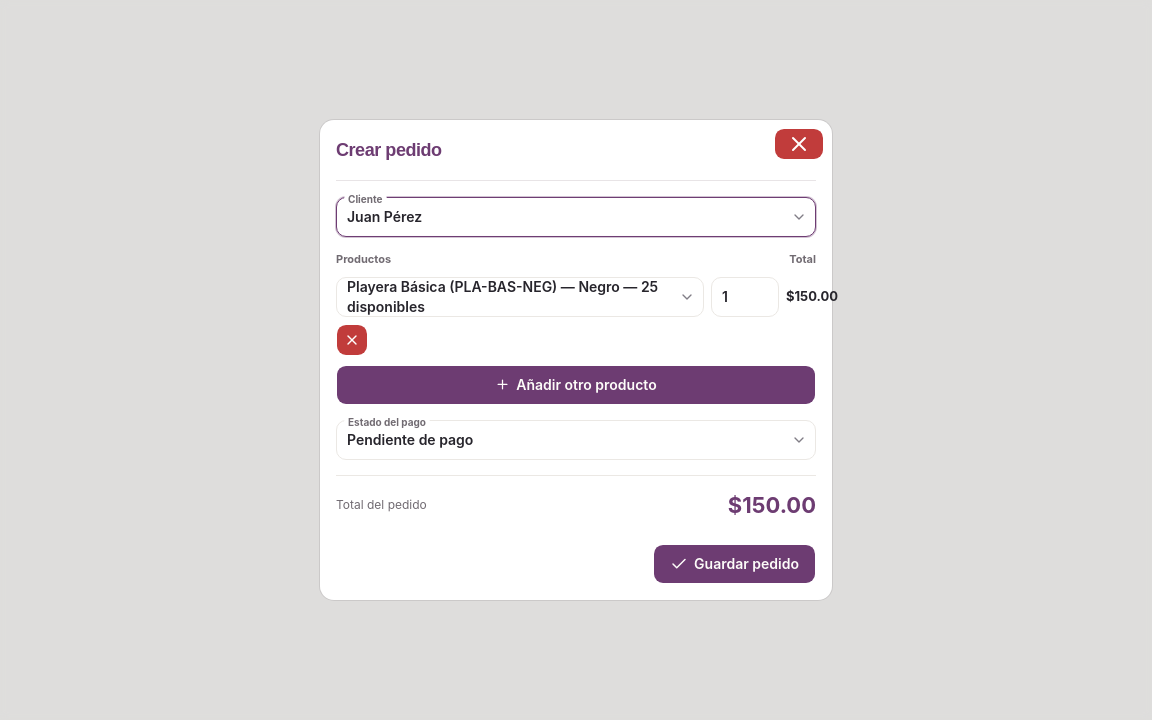
OrderModal › Selección de pago › debería permitir cambiar a Pagado
The image size is (1152, 720).
Click the dropdown named "Estado del pago" at x=410, y=439, box [336,420,816,460]
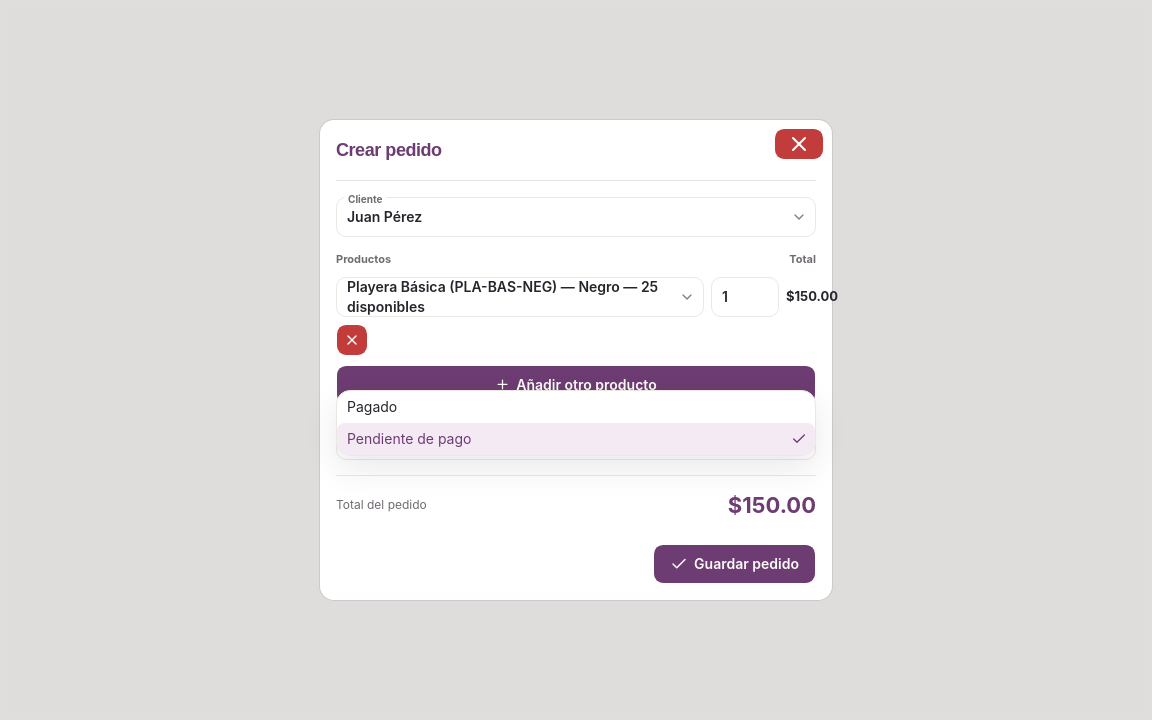
Click the option "Pagado" at x=372, y=406, box [347,398,397,415]
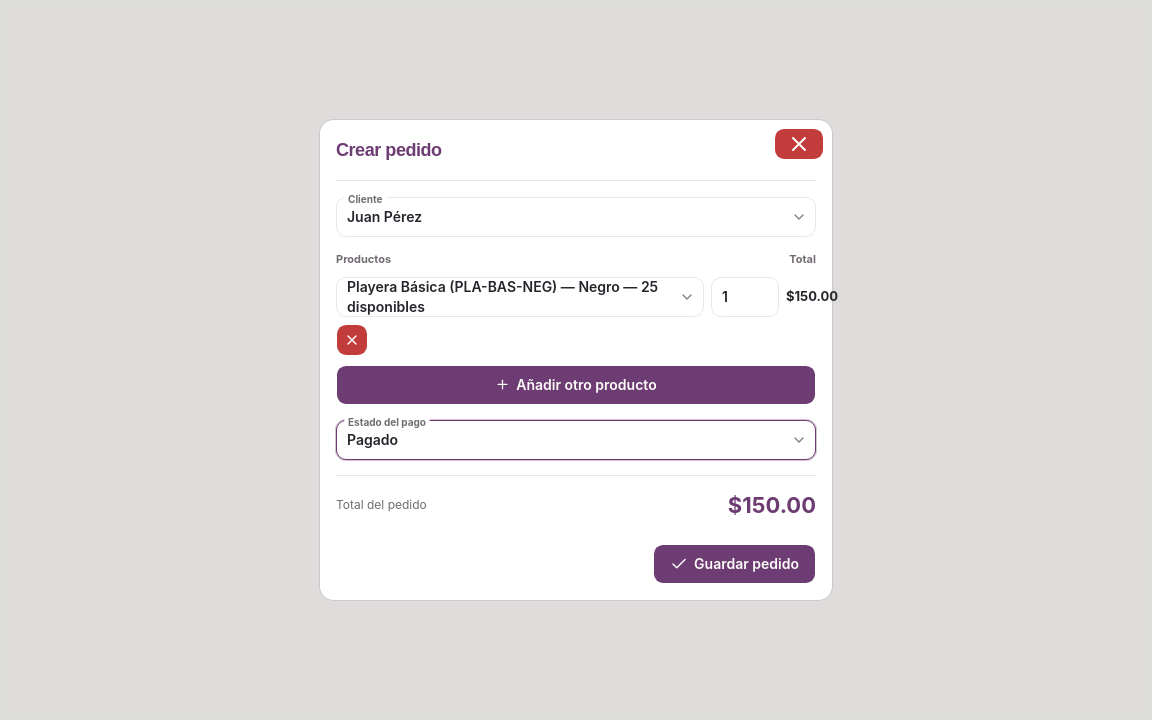
Now the dropdown named "Estado del pago" shows "Pagado", box [336,420,816,460]
